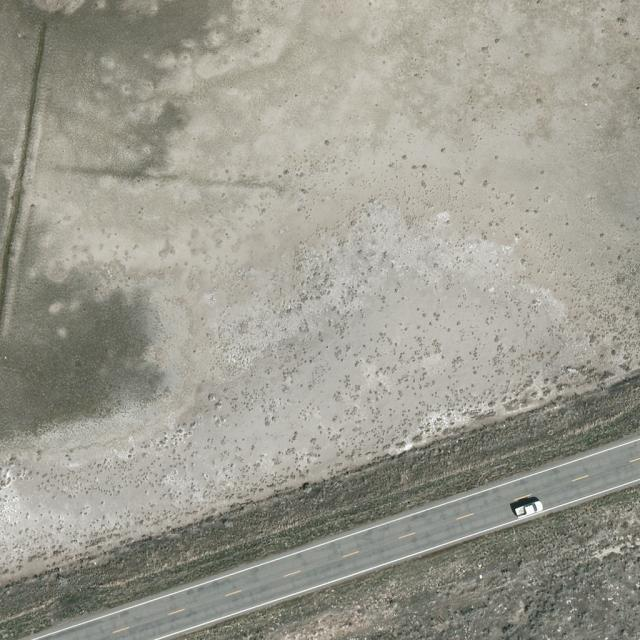vehicle: (514, 501, 544, 518)
